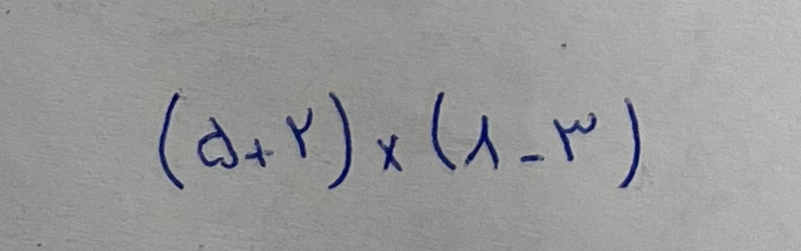character: (322, 92, 355, 191), (156, 89, 185, 192), (196, 113, 239, 171), (620, 94, 646, 189), (431, 90, 458, 171), (466, 110, 500, 173), (553, 110, 595, 161), (284, 102, 316, 157), (245, 129, 276, 168), (374, 133, 404, 173), (517, 150, 546, 166)
